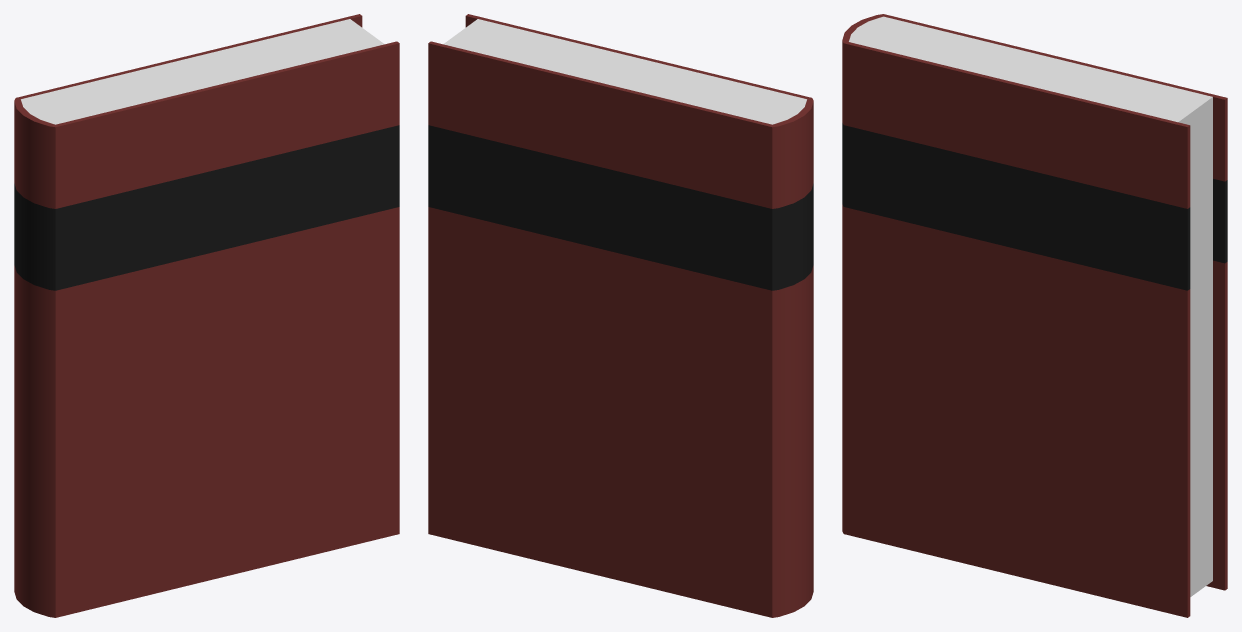
3 views of the same model, side by side, from view 1: azimuth 30°, elevation 25°; view 2: azimuth 150°, elevation 25°; view 3: azimuth 330°, elevation 25° (orthographic).
Parts seen in each view (by area): view 1: book; view 2: book; view 3: book.
Part boxes in pixels (left/top/right/bottom): book: left=14, top=14, right=399, bottom=617; book: left=428, top=14, right=813, bottom=617; book: left=842, top=14, right=1227, bottom=617.
Bounding box in the file's own units: 0.8313 × 1.09 × 0.1617.
